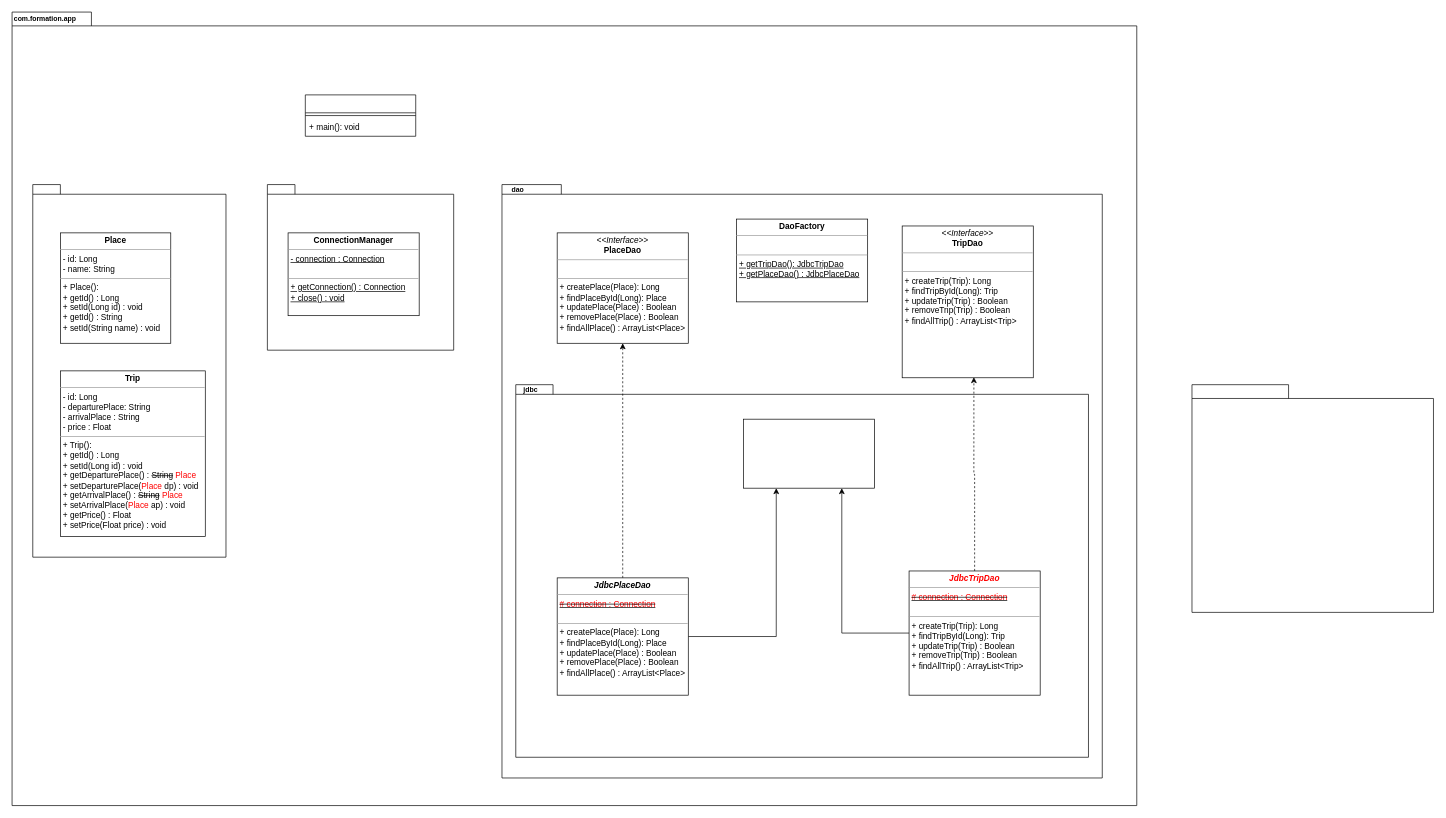
This 1446x818 diagram has some shape labels left out. The shapes that lost their labels are listed below. From the top down, each one's box as (x1, y1, x2, y2) in pixels, then its label:
(305, 94, 416, 136): Launcher
(267, 184, 454, 350): util
(32, 184, 226, 557): model
(743, 418, 875, 488): JdbcDao # connection : Connection
(1191, 384, 1433, 612): com.intiformation.app.util
